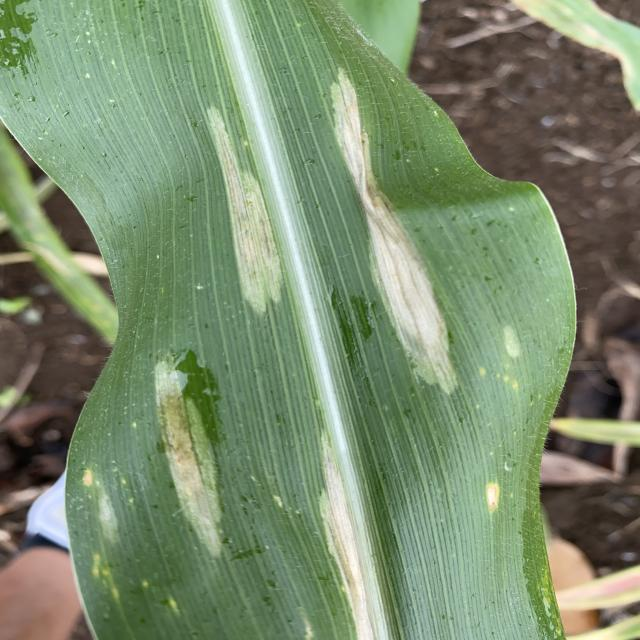Corn_Leaf_Blight: (85, 5, 514, 640)
